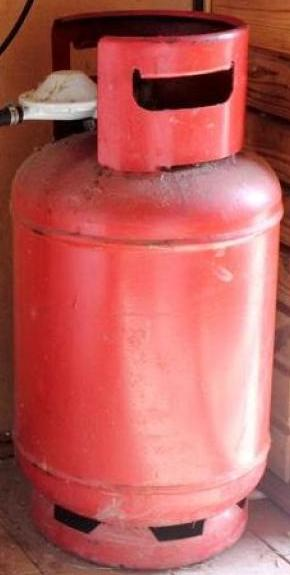cylinder: (1, 1, 290, 575)
